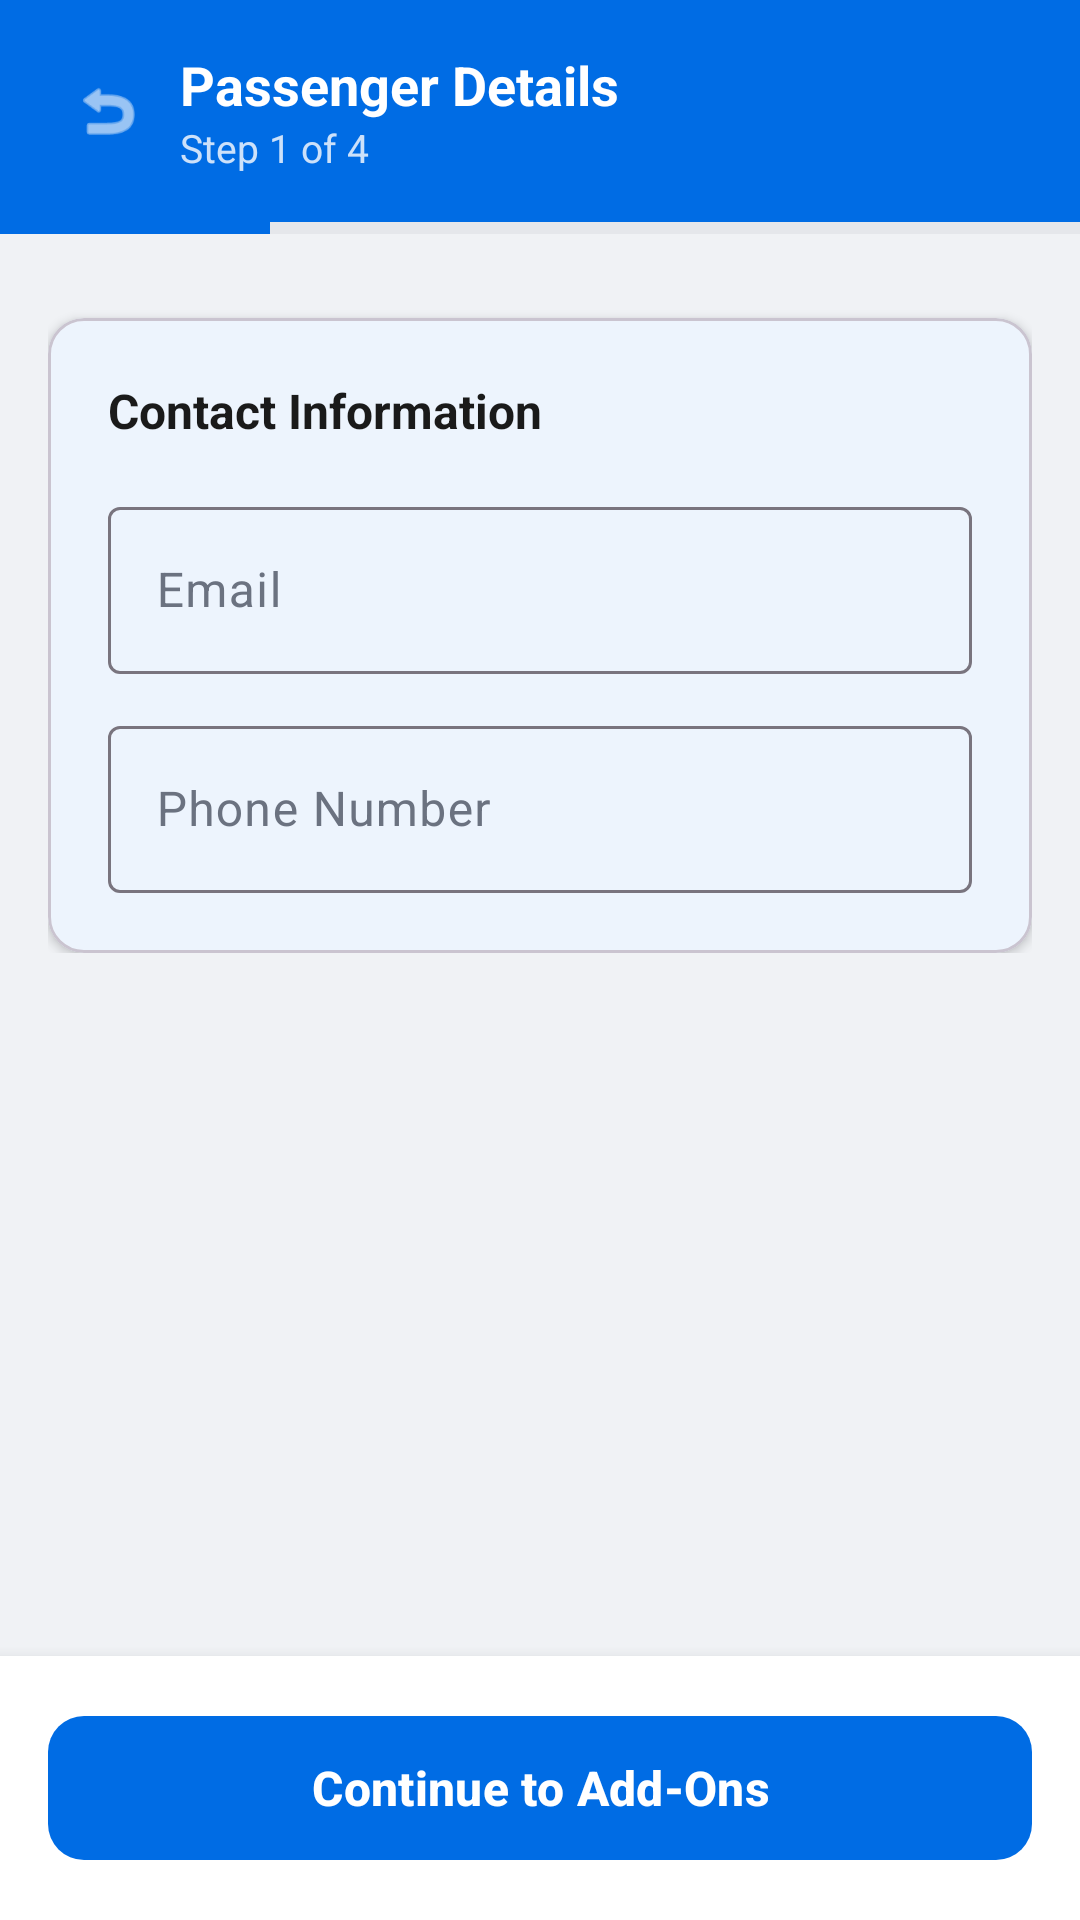

Icons on this 1080*1920 Android screen, each with its box as (x1, y1, x2, y2):
revert: (83, 88, 135, 135)
